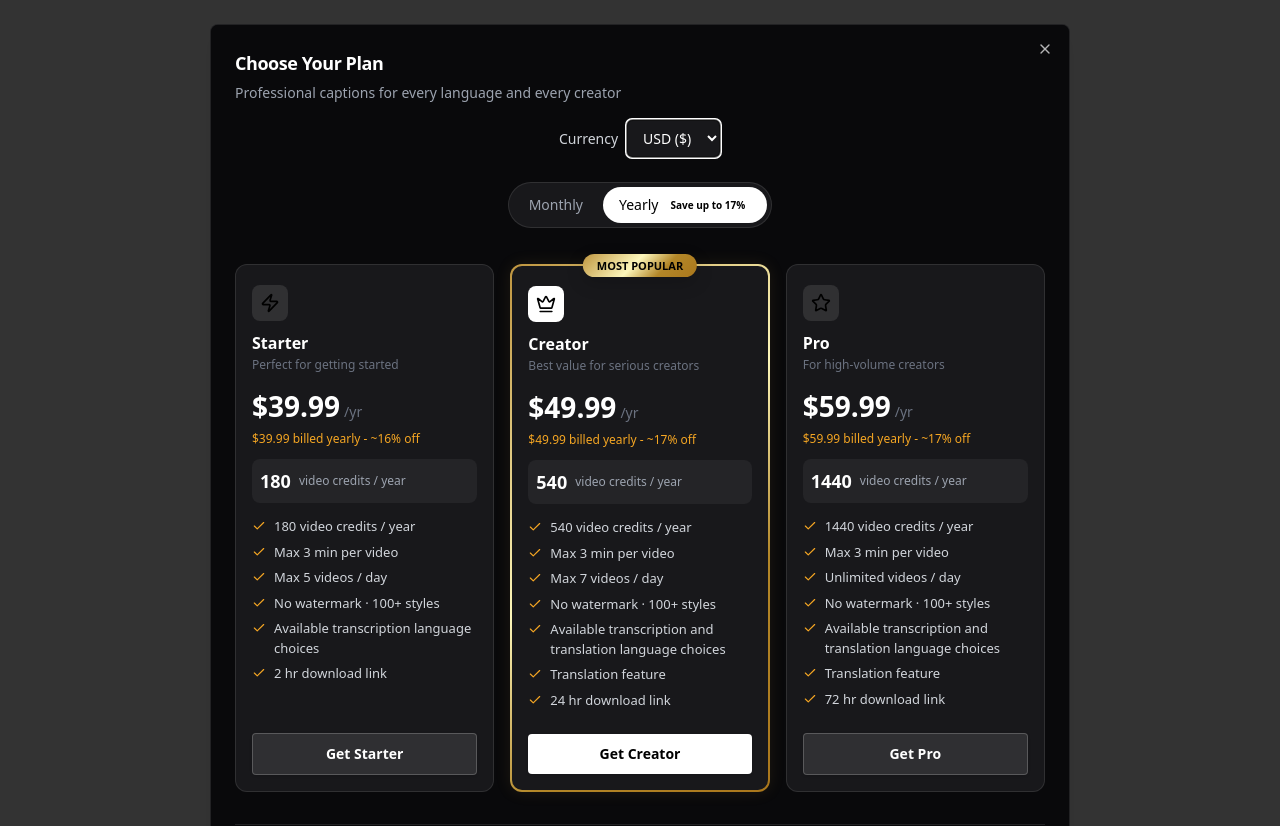
it: pricing currency follows the visitor country › shows rupees to a visitor in India
Click the button "Monthly" at coordinates (556, 205), box top-left (513, 189), bottom-right (599, 221)
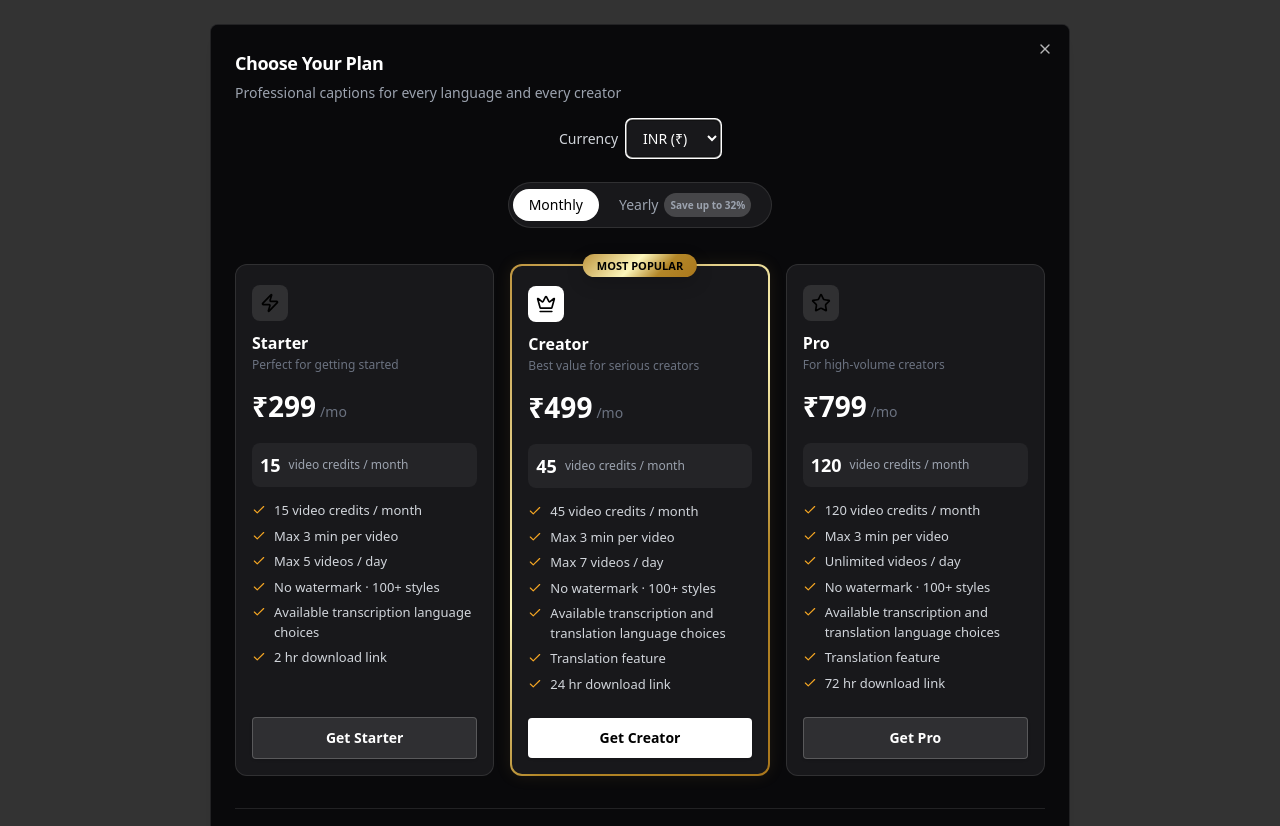
Expected: the text "₹299" is shown, top-left (252, 385), bottom-right (316, 427)
